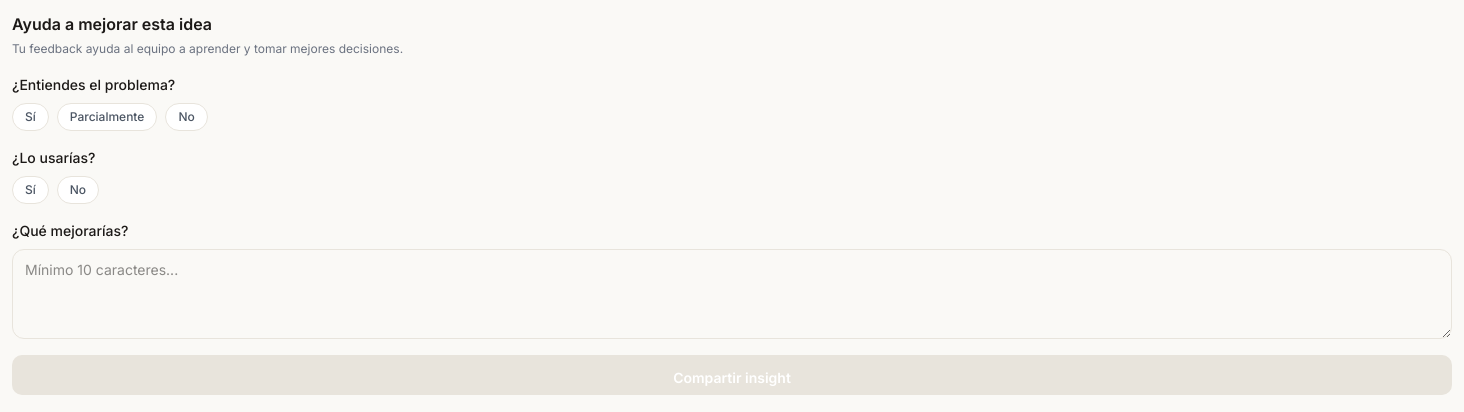
Test: FeedbackFormInline — estado de carga › deshabilita el submit mientras carga y muestra "Enviando..."
The width and height of the screenshot is (1464, 412).
Click the button "Sí" below "¿Entiendes el problema?": [30, 117] box [12,103,49,131]
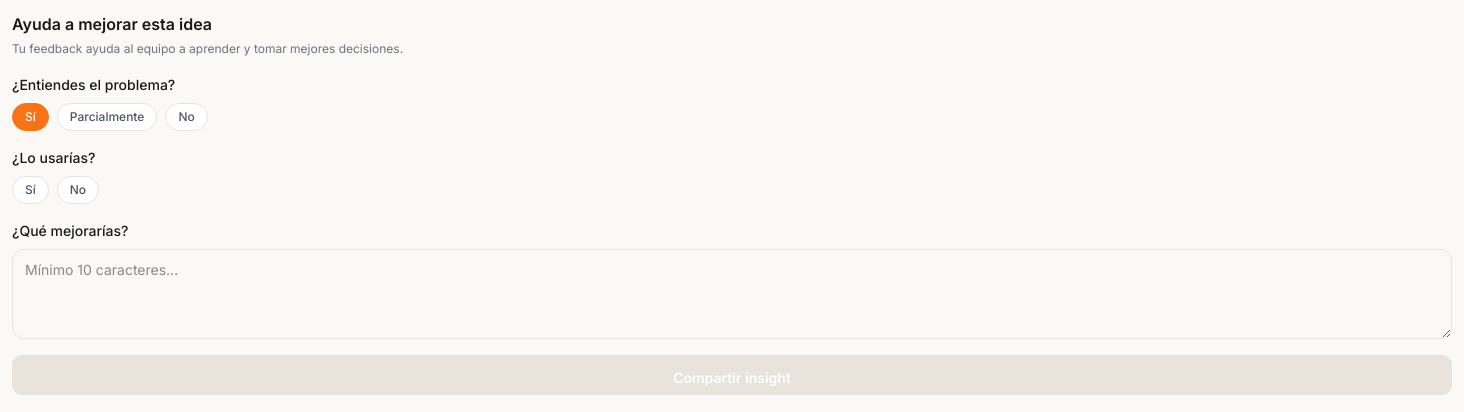
Click the button "Sí" below "¿Lo usarías?": [30, 190] box [12,176,49,204]
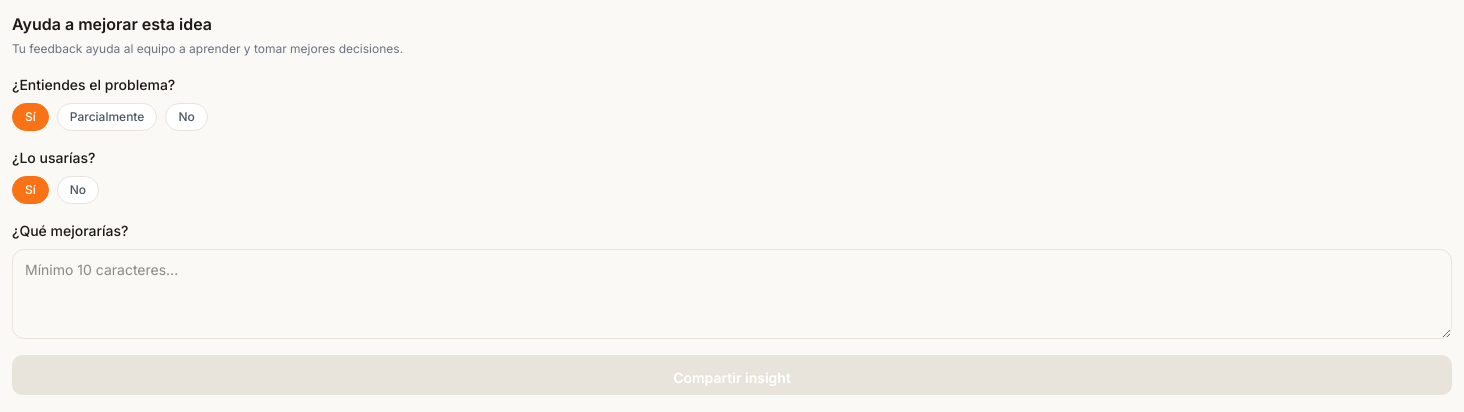
In the text box: [732, 294] box [12,249,1452,339], type "Texto de mejora suficientemente largo"
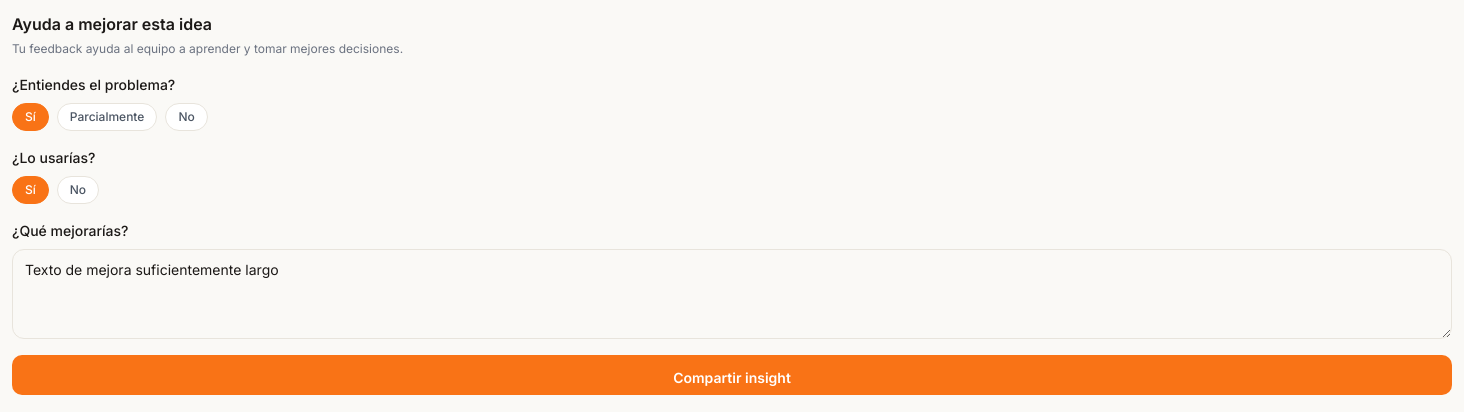
Click the button with test id "feedback-form-inline-submit": [732, 375] box [12,355,1452,395]
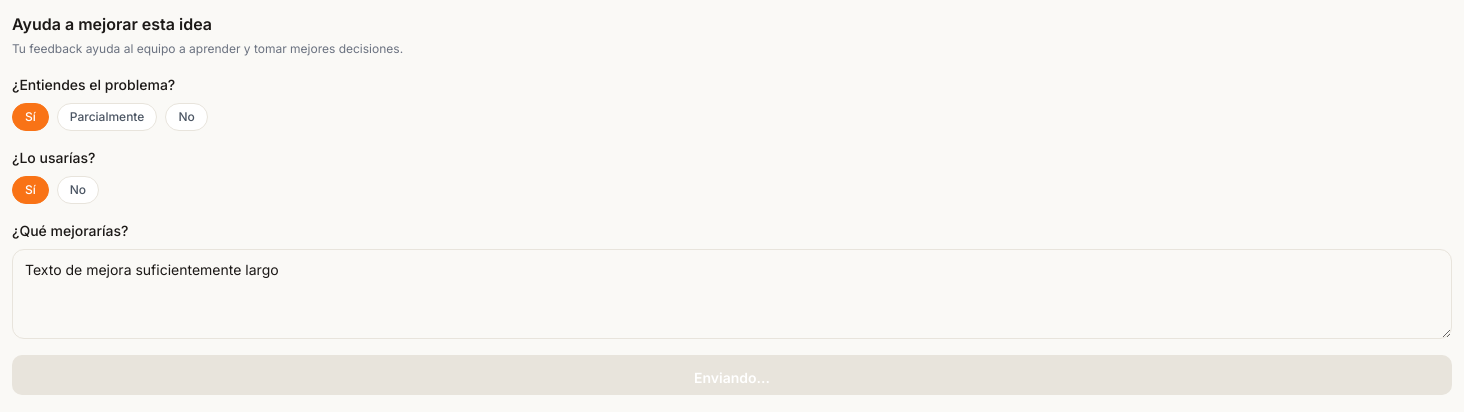
Expected: the button with test id "feedback-form-inline-submit" is disabled, [12,355,1452,395]
Expected: the button with test id "feedback-form-inline-submit" reads "Enviando...", [12,355,1452,395]
